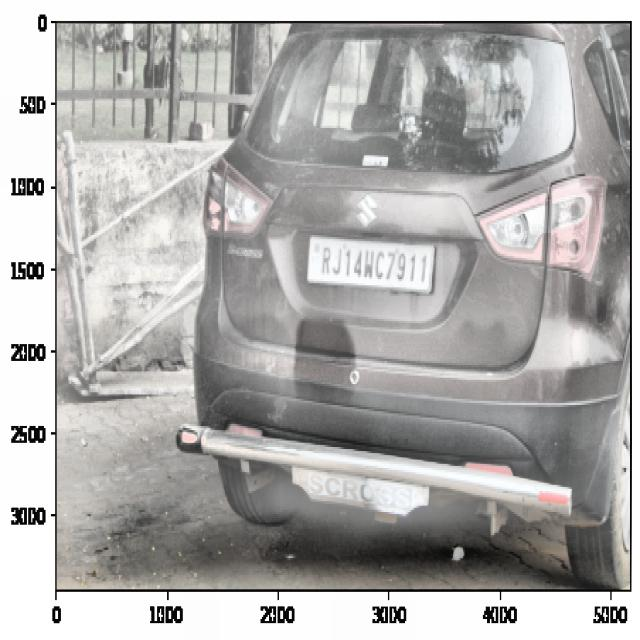license_plate: (316, 242, 432, 290)
